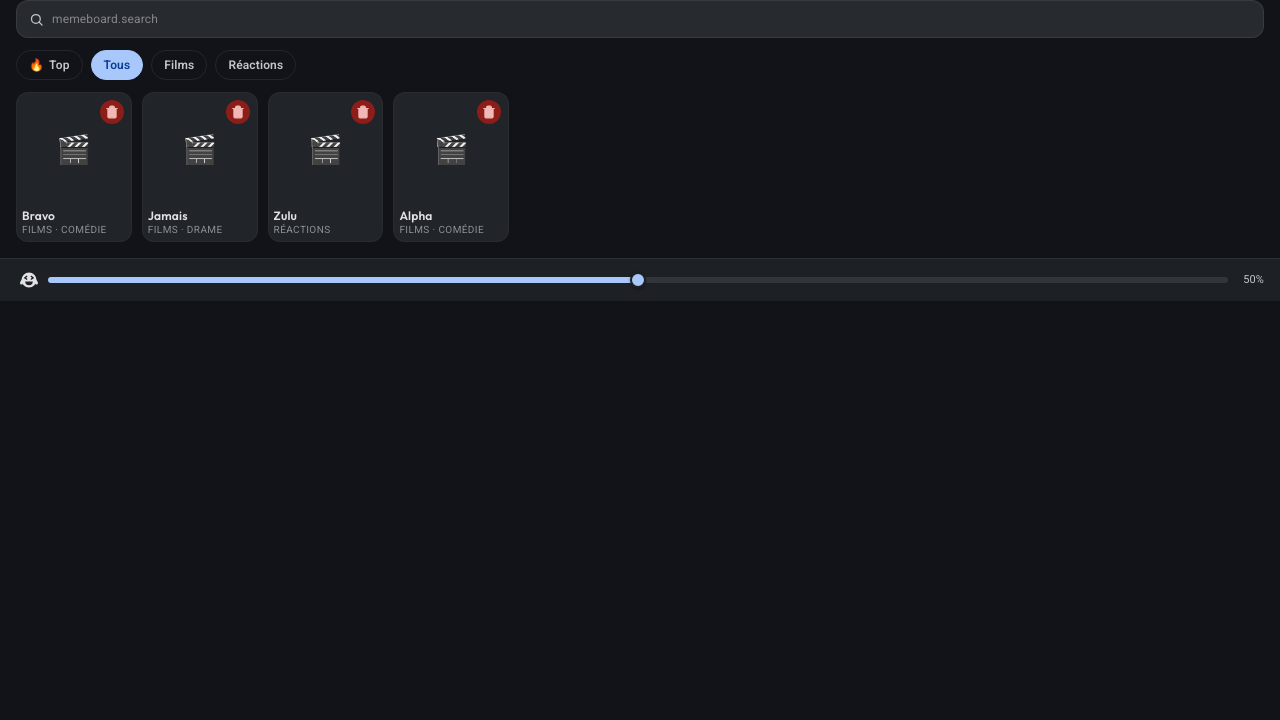
la suppression d'un mème demande la même confirmation intégrée et n'envoie rien après Annuler
The image size is (1280, 720).
Click the 1st button named "memeboard.delete". click: (112, 112)
box: [100,100,124,124]
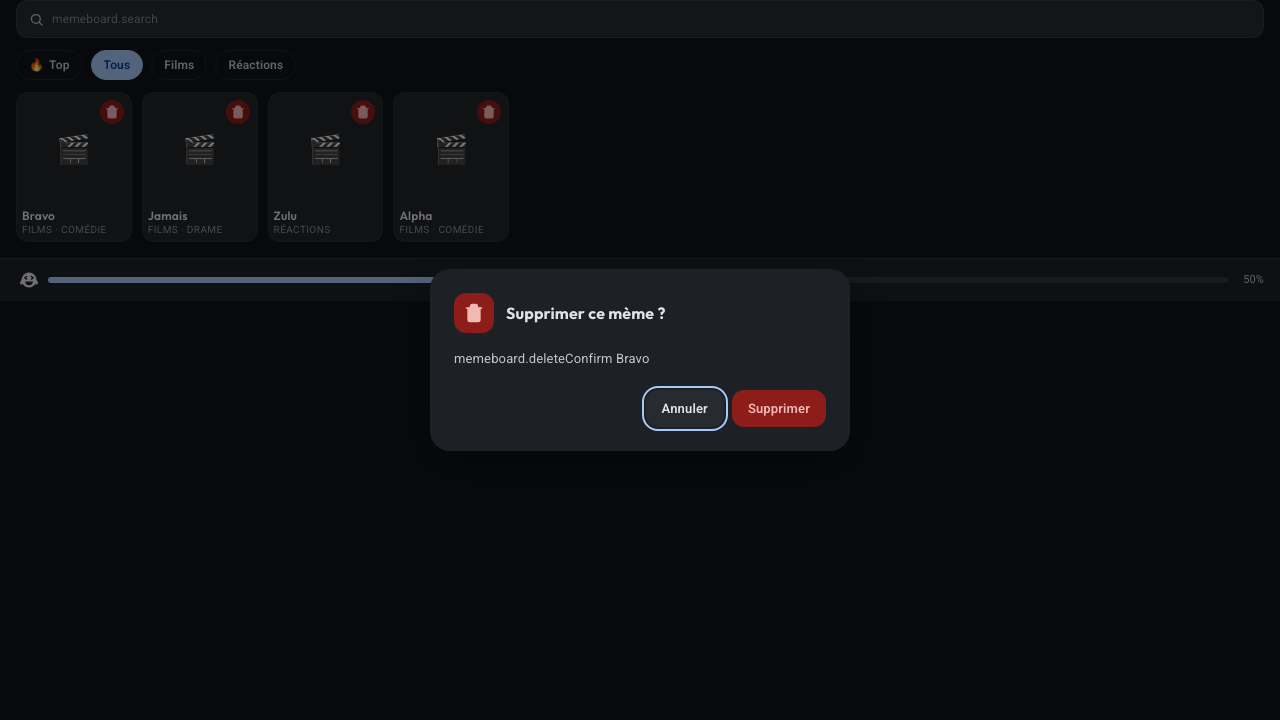
expect the dialog shows "Bravo": met, box [454,351,650,366]
Click the button "Annuler". click: (685, 408)
box: [646,390,724,427]
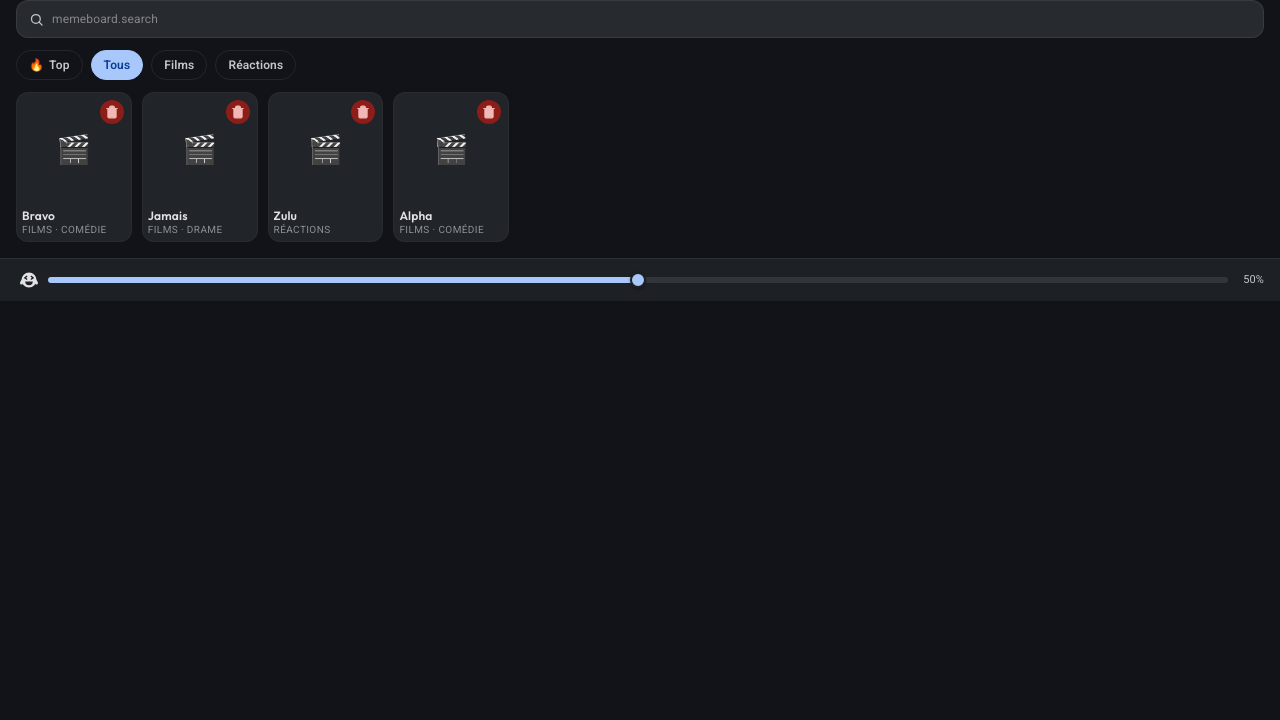
expect the dialog is gone: met
Click the 1st button named "memeboard.delete". click: (112, 112)
box: [100,100,124,124]
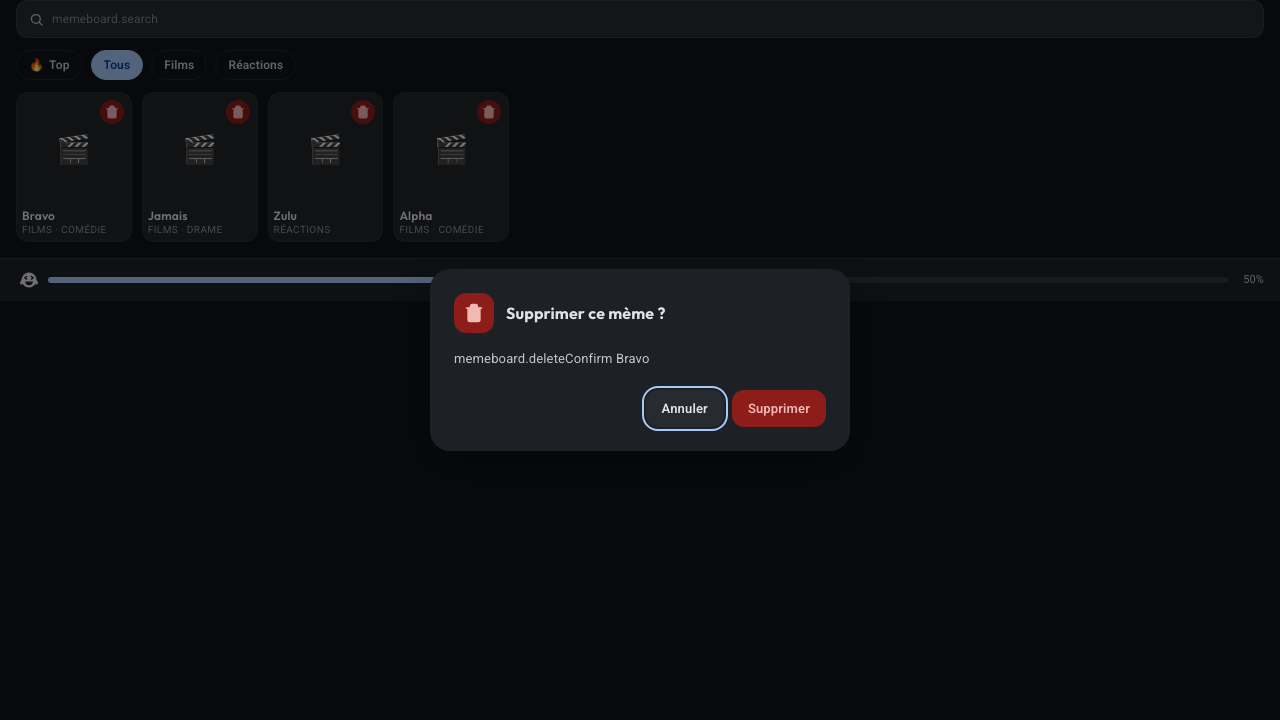
Click the button "Supprimer". click: (779, 408)
box: [732,390,826,427]
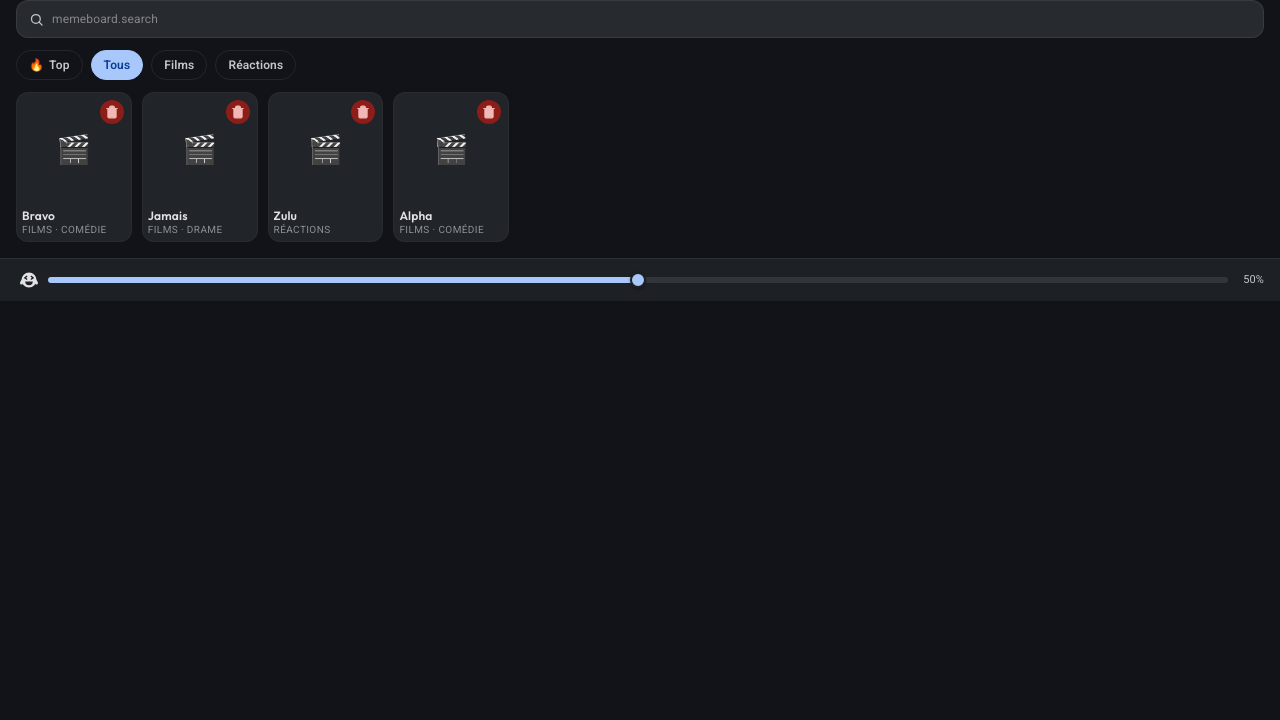
expect the dialog is gone: met
